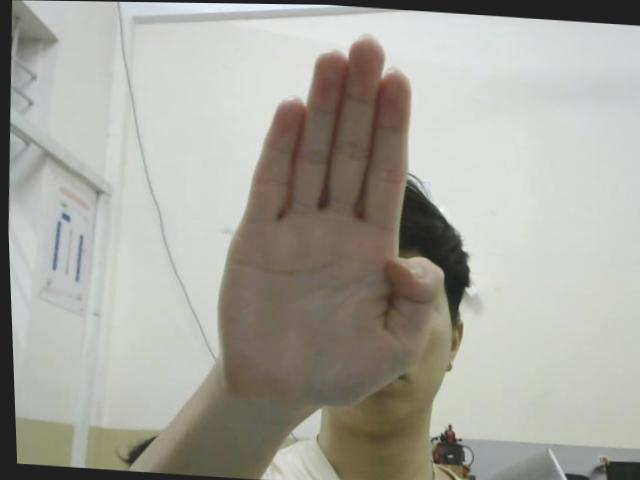B: (199, 23, 459, 420)
